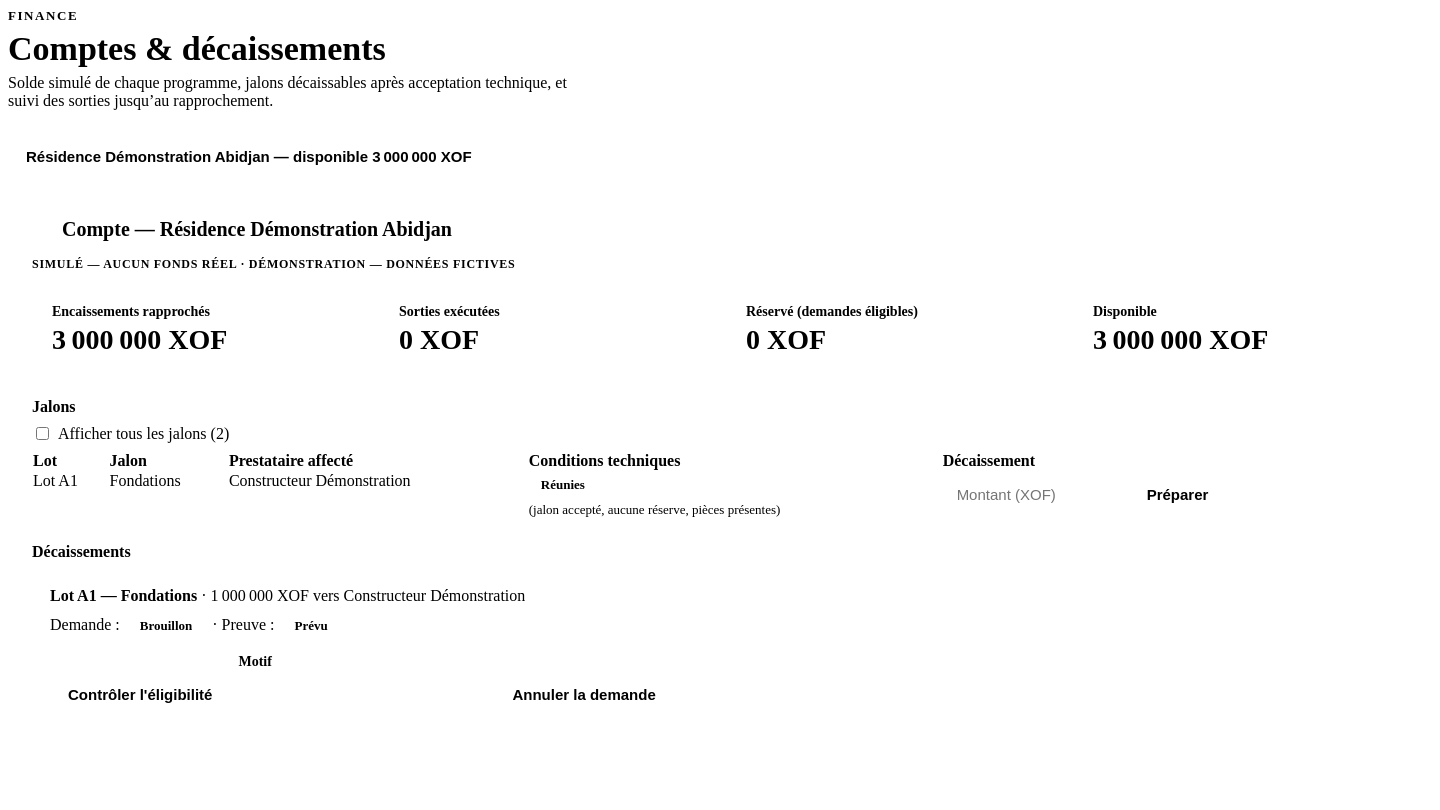
FinanceAccountsView — comptes et décaissements (ticket F-068) › le contrôle d'éligibilité refusé (réserve ouverte) est affiché tel quel
Click the button "Contrôler l'éligibilité" at x=140, y=694, box [50,672,230,716]
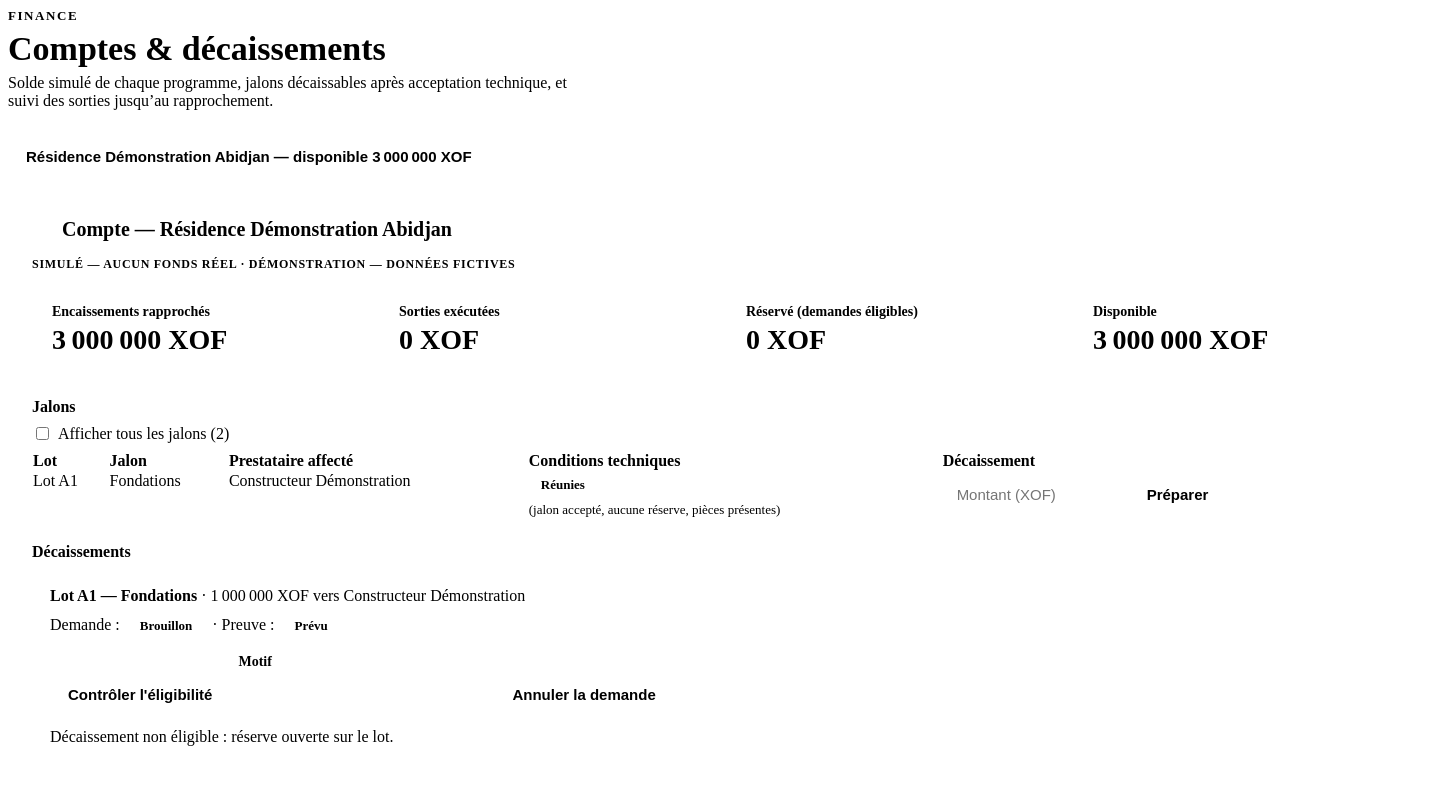
Expected: the message shows "réserve ouverte sur le lot", [50,728,393,745]
